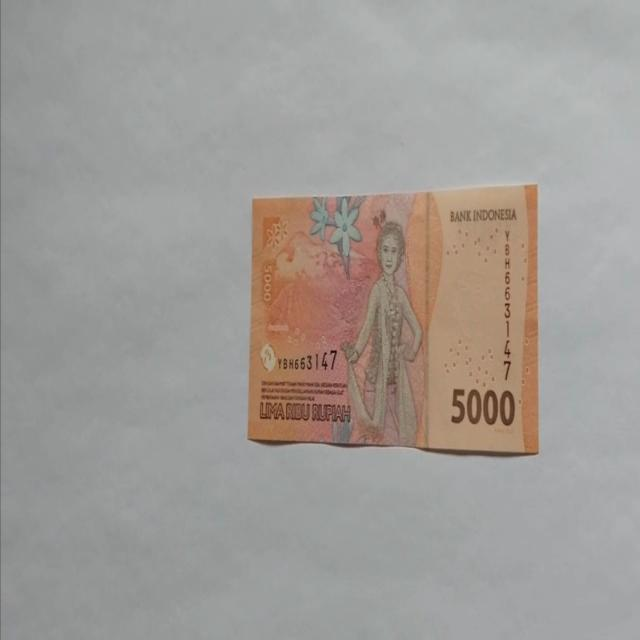lima ribu rupiah: (247, 183, 539, 454), (340, 219, 424, 446)
